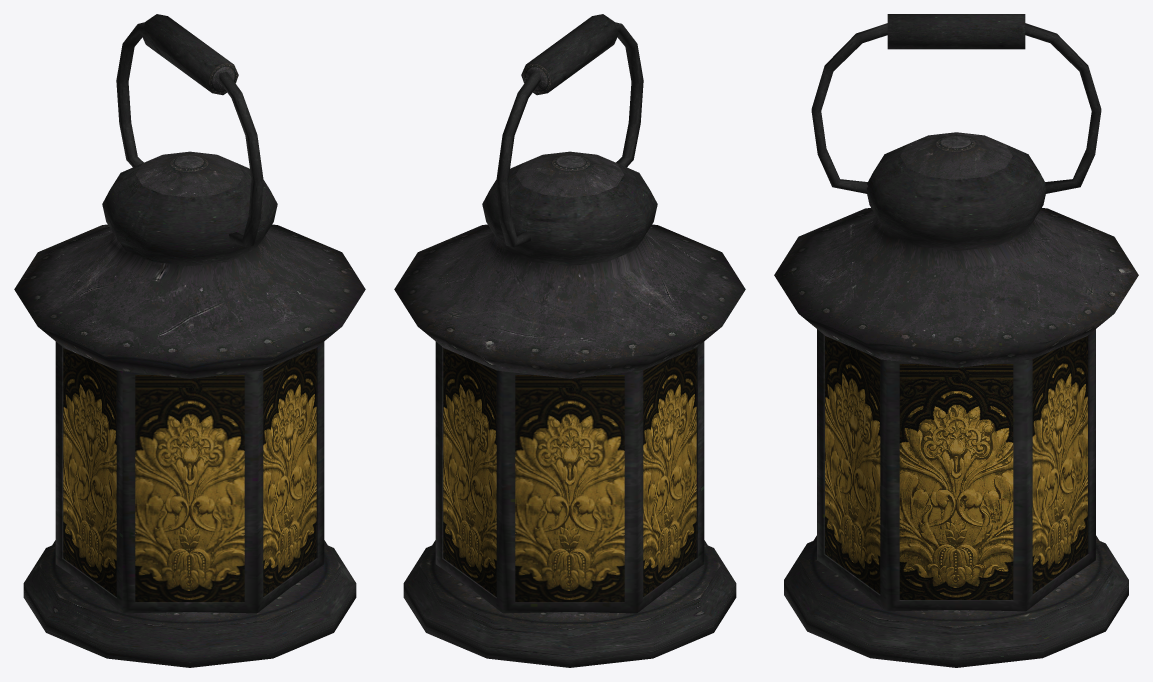
File: amadeus_lantern.dae
3 views of the same model, side by side, from view 1: azimuth 30°, elevation 25°; view 2: azimuth 150°, elevation 25°; view 3: azimuth 270°, elevation 25° (orthographic). The views are drawn at different scales.
Visible parts, largest first — view 1: polySurface52, polySurface51, polySurface53, polySurface54, polySurface58, polySurface56, polySurface57; view 2: polySurface52, polySurface51, polySurface53, polySurface54, polySurface58, polySurface57, polySurface56; view 3: polySurface52, polySurface51, polySurface53, polySurface54, polySurface58, polySurface57, polySurface56.
Boxes of the visible parts, x1,y1,x2,y2 form: polySurface52: [14, 151, 365, 378]; polySurface51: [63, 348, 316, 602]; polySurface53: [23, 540, 356, 667]; polySurface54: [55, 341, 324, 613]; polySurface58: [141, 14, 238, 95]; polySurface56: [219, 71, 263, 247]; polySurface57: [116, 22, 145, 167]; polySurface52: [394, 151, 745, 378]; polySurface51: [443, 348, 696, 602]; polySurface53: [403, 540, 736, 667]; polySurface54: [435, 341, 704, 613]; polySurface58: [521, 14, 618, 95]; polySurface57: [496, 71, 540, 247]; polySurface56: [614, 22, 643, 167]; polySurface52: [774, 132, 1138, 367]; polySurface51: [825, 336, 1087, 599]; polySurface53: [784, 535, 1128, 667]; polySurface54: [817, 329, 1095, 611]; polySurface58: [887, 14, 1025, 49]; polySurface57: [1025, 23, 1101, 193]; polySurface56: [811, 23, 887, 193].
Size of the model in its own units: 0.1051 by 0.1845 by 0.1051.
5 materials, 5 textured.
